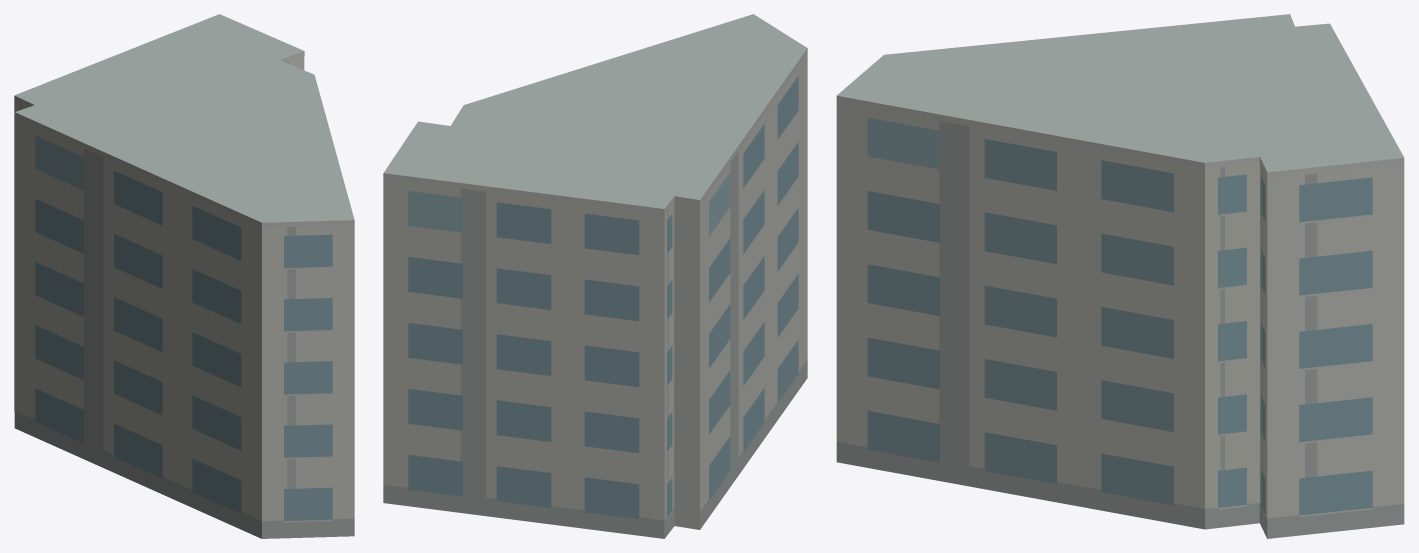
File: survey-upis-32566880.glb
3 views of the same model, side by side, from view 1: azimuth 30°, elevation 25°; view 2: azimuth 150°, elevation 25°; view 3: azimuth 270°, elevation 25° (orthographic). The views are drawn at different scales.
Parts seen in each view (by area): view 1: survey-upis-32566880.tmp; view 2: survey-upis-32566880.tmp; view 3: survey-upis-32566880.tmp.
Boxes of the visible parts, x1,y1,x2,y2 form: survey-upis-32566880.tmp: (14,14,354,538); survey-upis-32566880.tmp: (383,14,807,538); survey-upis-32566880.tmp: (836,14,1404,538).
Bounding box in the file's own units: 13.63 × 14.7 × 20.65.
